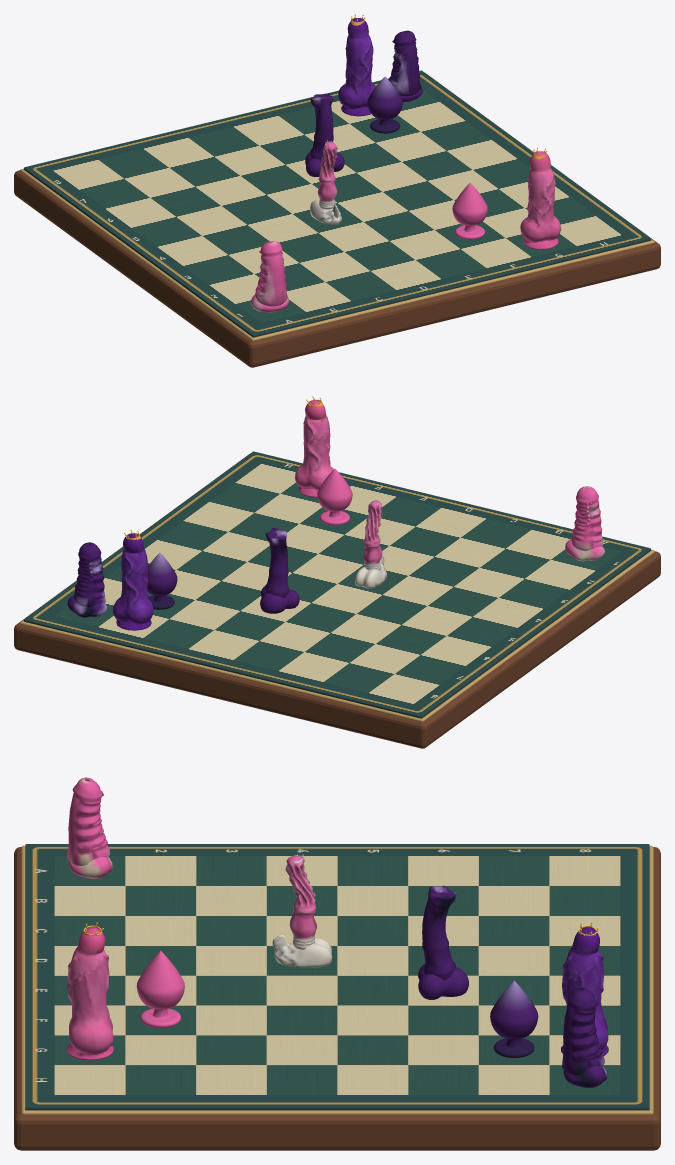
The model's file is guest-chess.glb.
3 views of the same model, one above another, from view 1: azimuth 30°, elevation 25°; view 2: azimuth 150°, elevation 25°; view 3: azimuth 270°, elevation 25° (orthographic). The views are drawn at different scales.
Parts seen in each view (by area): view 1: guest_chess; view 2: guest_chess; view 3: guest_chess.
Boxes of the visible parts, x1,y1,x2,y2 form: guest_chess: (14,14,660,367); guest_chess: (14,396,660,748); guest_chess: (14,777,660,1150).
Size of the model in its own units: 0.84 by 0.243 by 0.84.
Materials: 16 (1 with a texture image).
